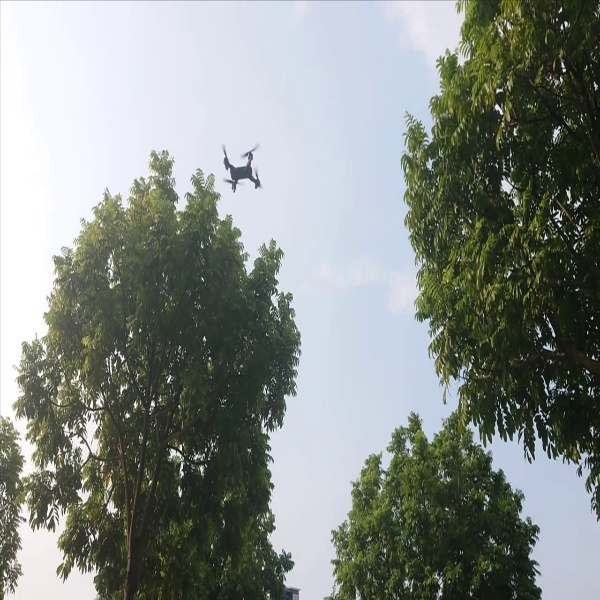drone: (217, 140, 265, 198)
